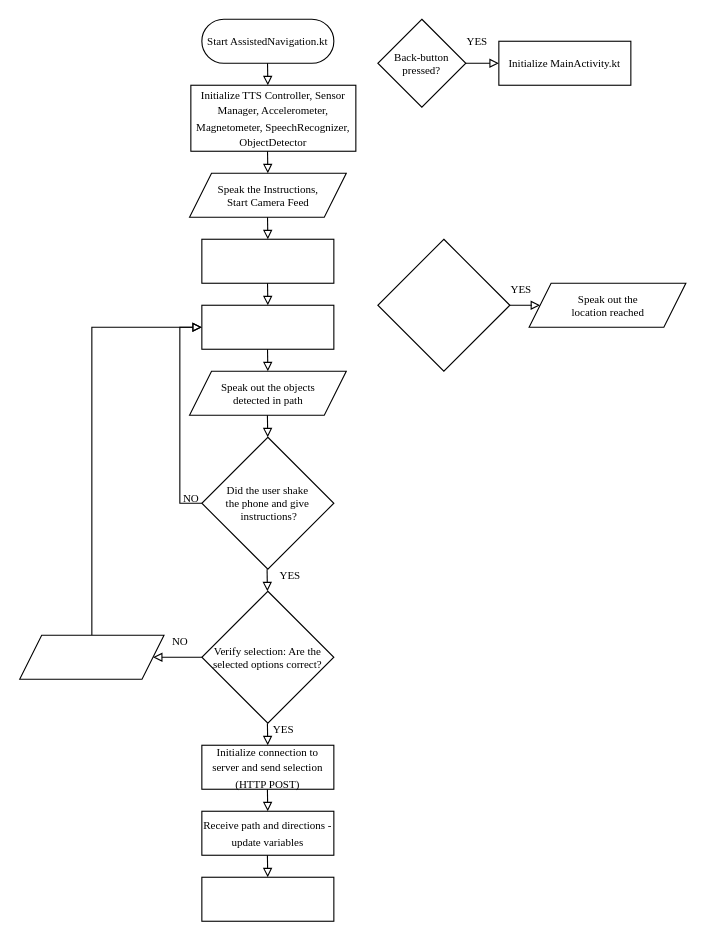
This 705x941 diagram has some shape labels left out. The box of each missing label's shape, as (x1, y1, x2, y2) in pixels:
Display Error Message: (19, 634, 164, 679)
Identify Objects in camera frames: (201, 304, 334, 349)
Initialize BlindNav.kt: (201, 876, 334, 921)
Initialize Bluetooth Adapter, start scanning for BLE beacons: (201, 238, 334, 283)
Reached a landmark/checkpoint?: (377, 238, 510, 371)
